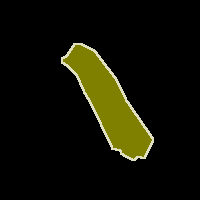tie: (62, 44, 153, 160)
